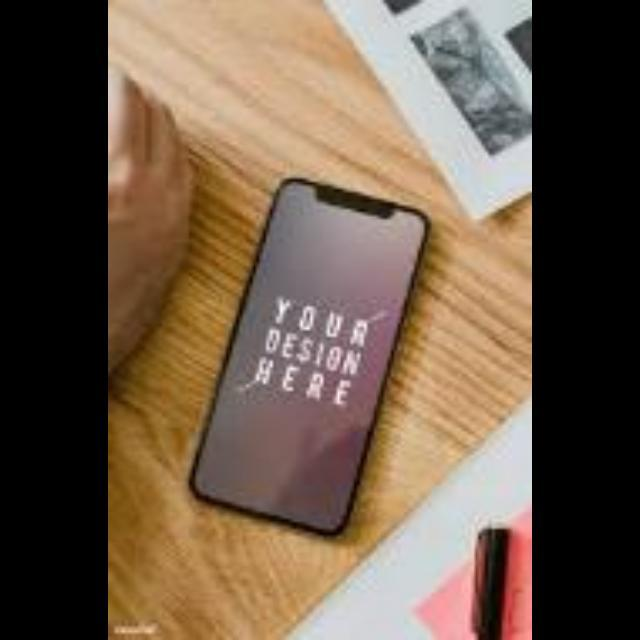Phone: (192, 176, 434, 538)
